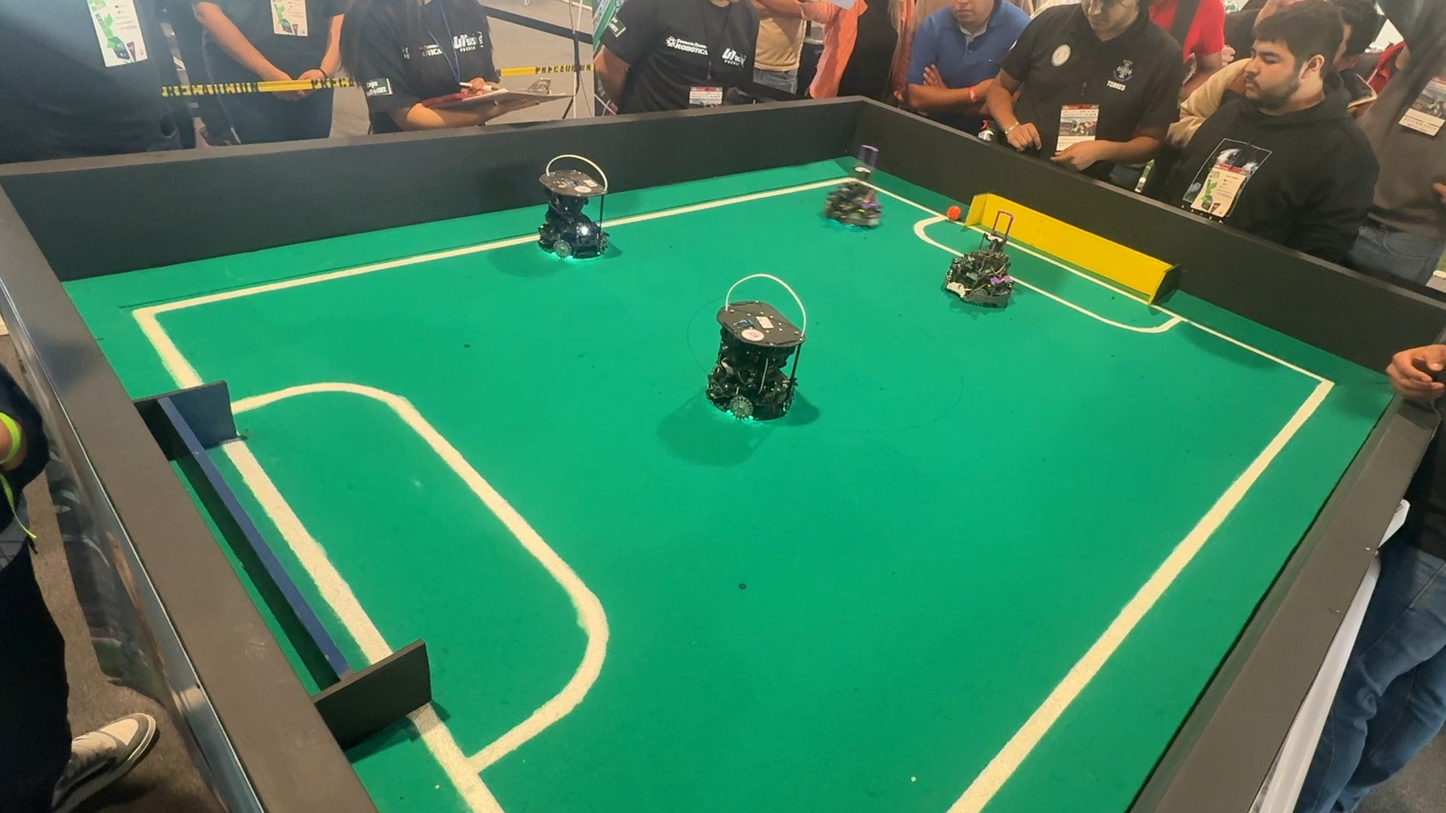Robot: (693, 268, 828, 454), (922, 195, 1036, 324), (521, 157, 621, 279), (806, 142, 896, 241)
